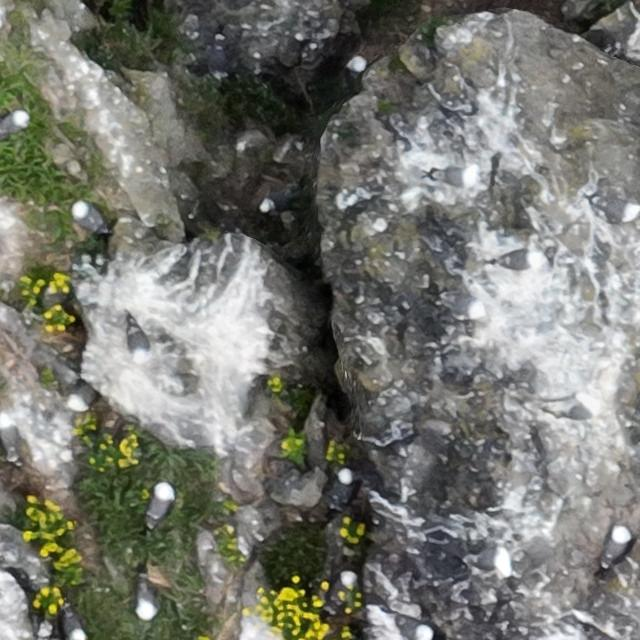umineko: (422, 160, 478, 187), (440, 288, 488, 318), (471, 548, 514, 579), (210, 29, 231, 81), (557, 397, 597, 423), (149, 484, 174, 523), (67, 382, 97, 414), (594, 198, 636, 220), (328, 572, 357, 603), (604, 526, 628, 562), (492, 252, 536, 271), (74, 205, 103, 232), (135, 581, 156, 618), (127, 325, 147, 359), (334, 469, 354, 503), (62, 610, 84, 640), (1, 111, 28, 134), (344, 56, 365, 77), (260, 196, 286, 212)
